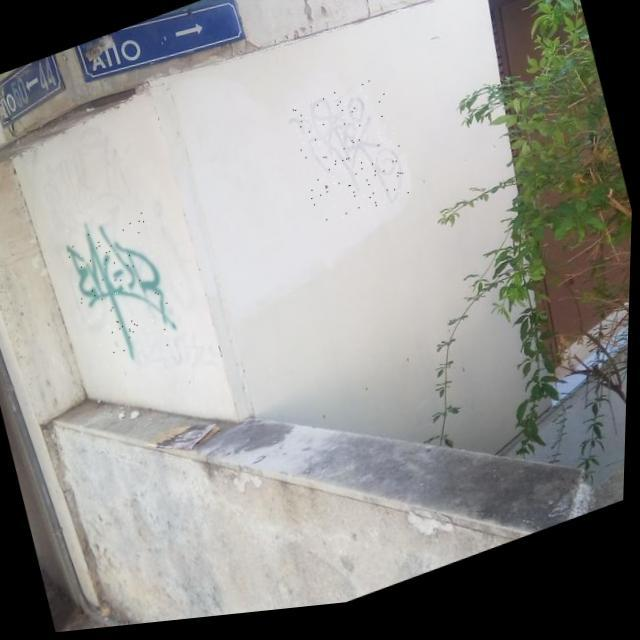-: (60, 200, 184, 378), (286, 78, 414, 236)
